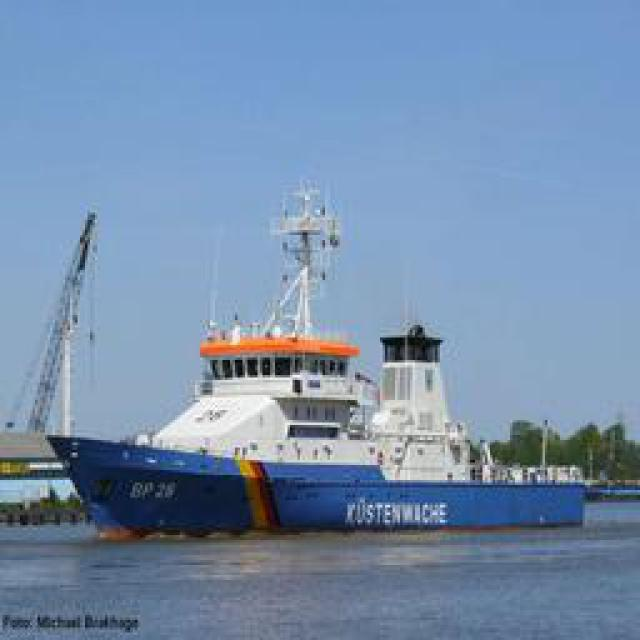Ship: (39, 167, 589, 530)
